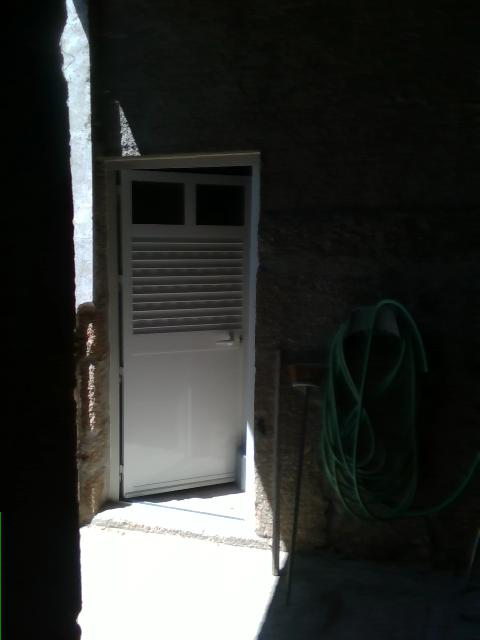semi_door: (108, 151, 259, 523)
